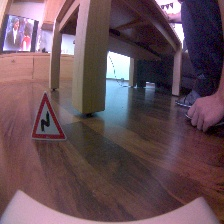vorsicht: (31, 90, 66, 143)
